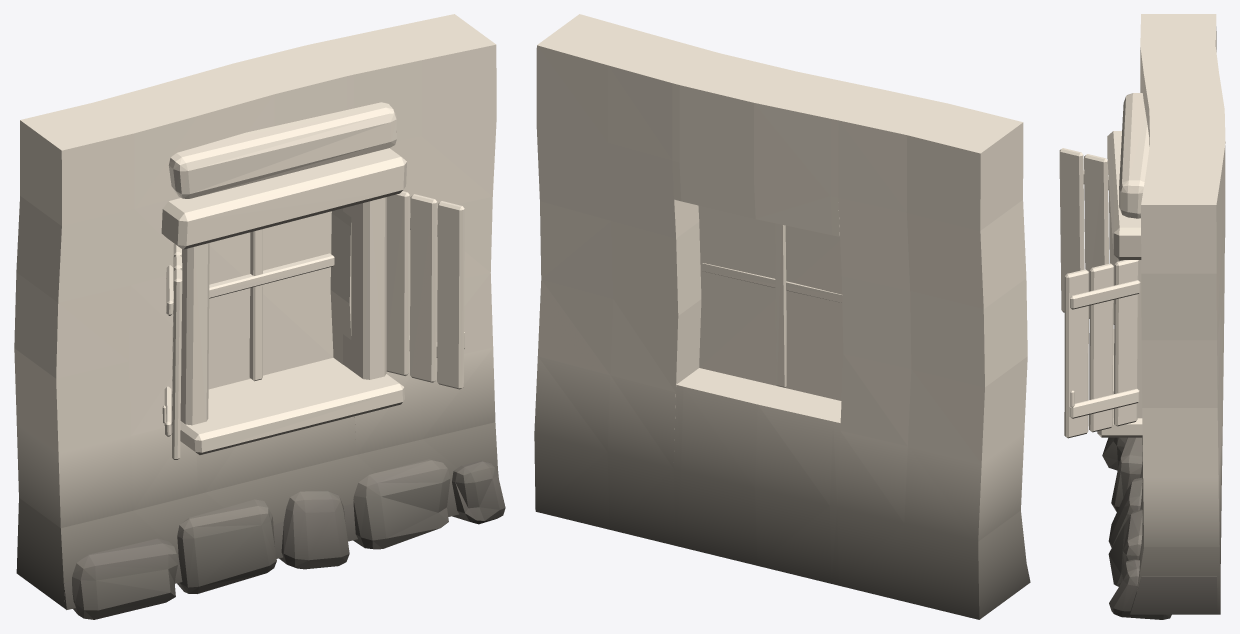
Rendered from SM_VK_Wall_Stone_Window.fbx.
The picture shows the model from 3 angles, left to right: view 1: azimuth 30°, elevation 25°; view 2: azimuth 150°, elevation 25°; view 3: azimuth 270°, elevation 25°; orthographic projection. The views are drawn at different scales.
Visible parts, largest first — view 1: SM_VK_Wall_Stone_Window.001; view 2: SM_VK_Wall_Stone_Window.001; view 3: SM_VK_Wall_Stone_Window.001.
Part boxes in pixels (left/top/right/bottom): SM_VK_Wall_Stone_Window.001: left=14, top=14, right=505, bottom=619; SM_VK_Wall_Stone_Window.001: left=534, top=14, right=1030, bottom=619; SM_VK_Wall_Stone_Window.001: left=1059, top=14, right=1225, bottom=619.
Size of the model in its own units: 3.04 by 3.11 by 1.1.
